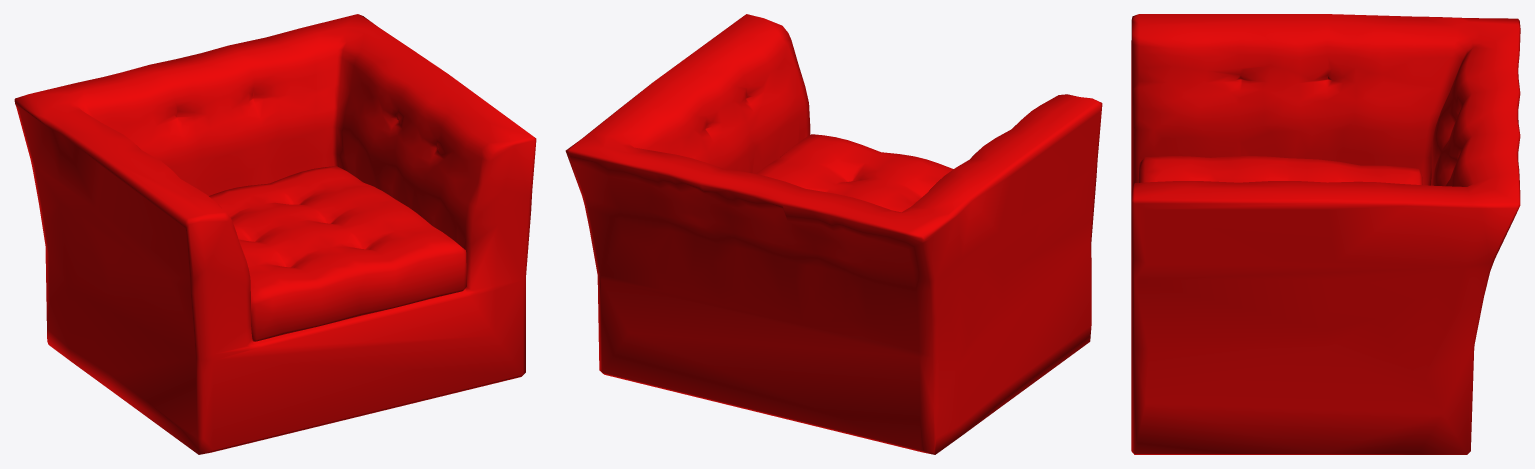
The model's file is armchairs_grp.fbx.
The picture shows the model from 3 angles, left to right: view 1: azimuth 30°, elevation 25°; view 2: azimuth 150°, elevation 25°; view 3: azimuth 270°, elevation 25°; orthographic projection. The views are drawn at different scales.
Visible parts, largest first — view 1: armchair_210; view 2: armchair_210; view 3: armchair_210.
Part boxes in pixels (x1,y1,x2,y2): armchair_210: [14, 14, 536, 454]; armchair_210: [565, 14, 1102, 454]; armchair_210: [1131, 14, 1520, 454].
Size of the model in its own units: 108 by 70.04 by 94.12.
